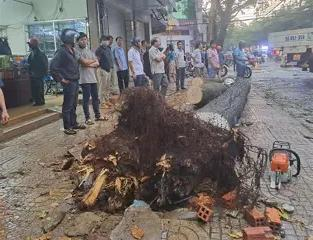ROAD_OBSTACLE: (53, 80, 273, 240)
